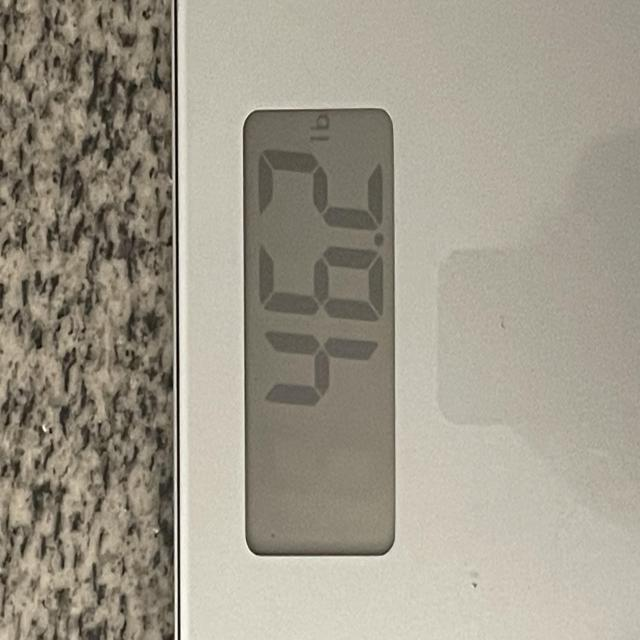ws: (173, 0, 640, 640)
